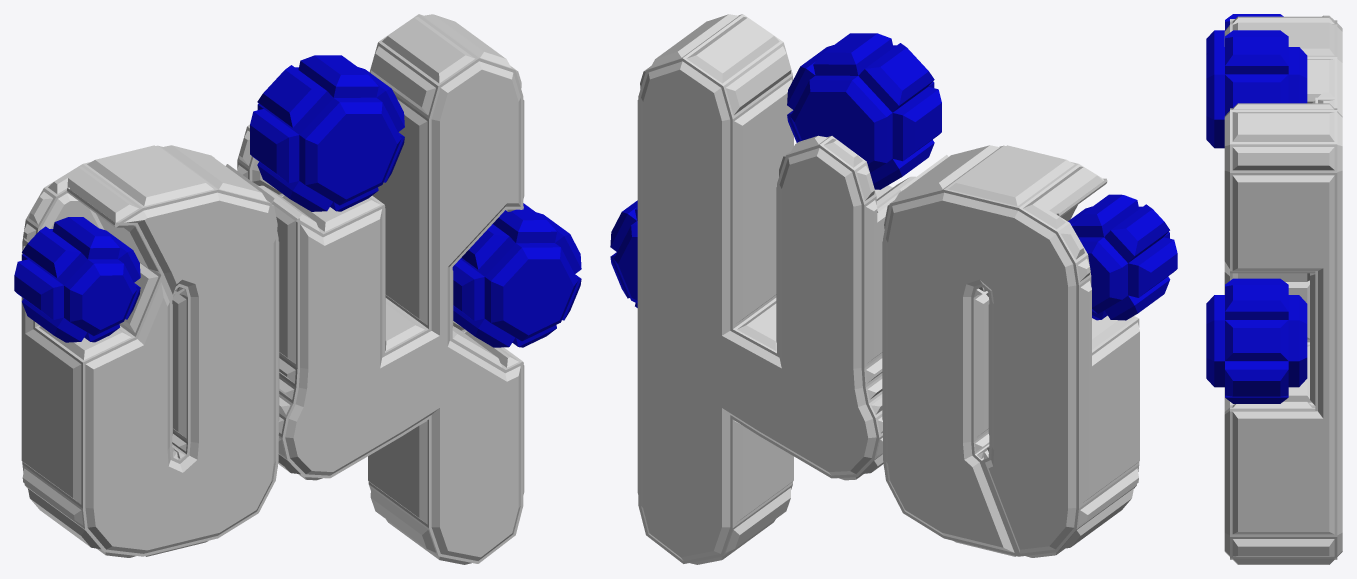
Rendered from Ch_China_叫_01.fbx.
3 views of the same model, side by side, from view 1: azimuth 30°, elevation 25°; view 2: azimuth 150°, elevation 25°; view 3: azimuth 270°, elevation 25° (orthographic). The views are drawn at different scales.
Parts seen in each view (by area): view 1: sphere1; view 2: sphere1; view 3: sphere1.
Boxes of the visible parts, left/top/right/bottom form: sphere1: left=14, top=14, right=581, bottom=564; sphere1: left=610, top=14, right=1177, bottom=564; sphere1: left=1206, top=14, right=1342, bottom=564.
Size of the model in its own units: 1.03 by 0.9556 by 0.2541.
